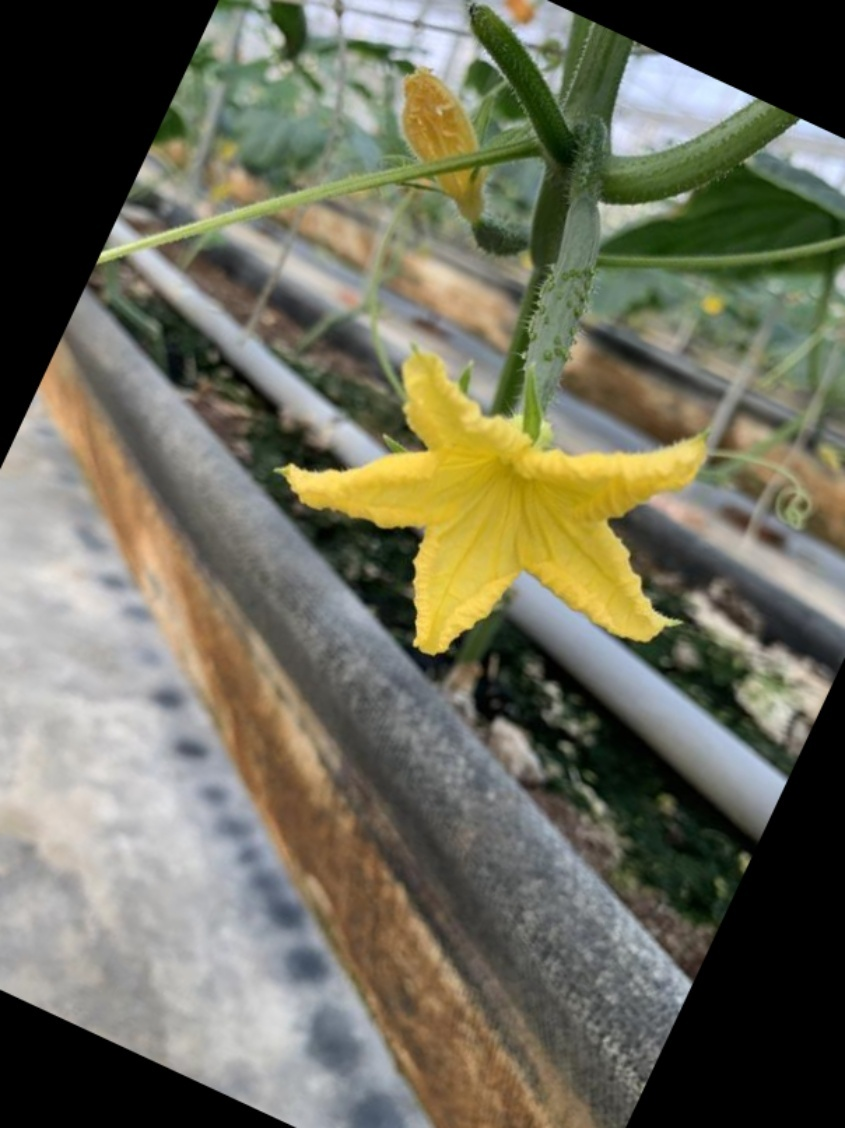flowering: (283, 161, 732, 676)
